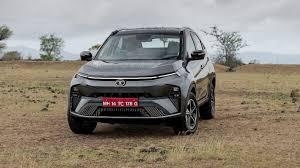Tata Nexon: (68, 26, 216, 133)
